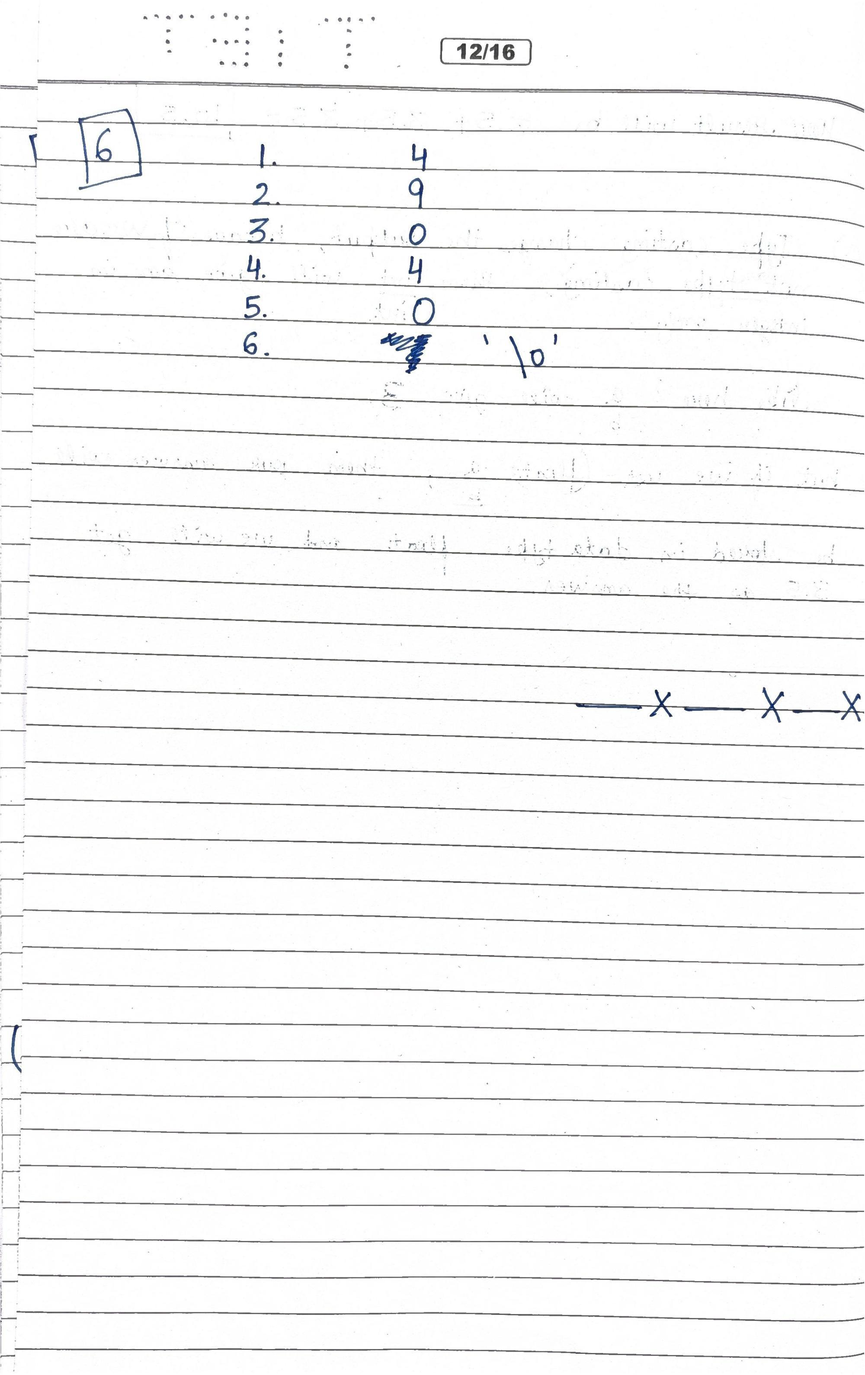cuttings: (370, 326, 440, 386)
